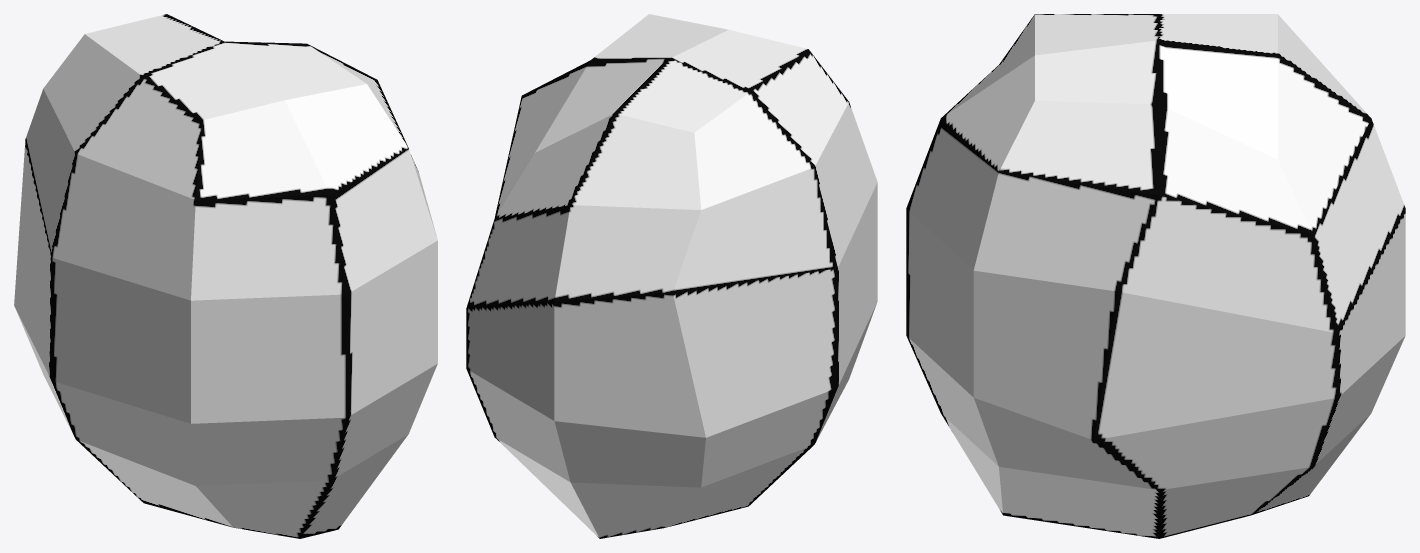
File: Boulder1.fbx
3 views of the same model, side by side, from view 1: azimuth 30°, elevation 25°; view 2: azimuth 150°, elevation 25°; view 3: azimuth 270°, elevation 25° (orthographic). The views are drawn at different scales.
Parts seen in each view (by area): view 1: Cube; view 2: Cube; view 3: Cube.
Boxes of the visible parts, bbox=[...] form: Cube: bbox=[14, 14, 437, 538]; Cube: bbox=[466, 14, 877, 538]; Cube: bbox=[906, 14, 1405, 538].
Size of the model in its own units: 913 by 1099 by 1091.
1 material, 1 textured.
